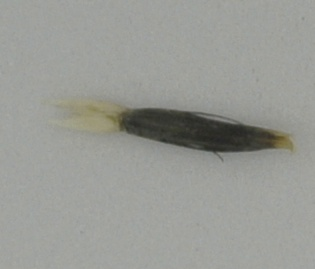เมล้ดปลายพู่กัน: (40, 96, 295, 161)
